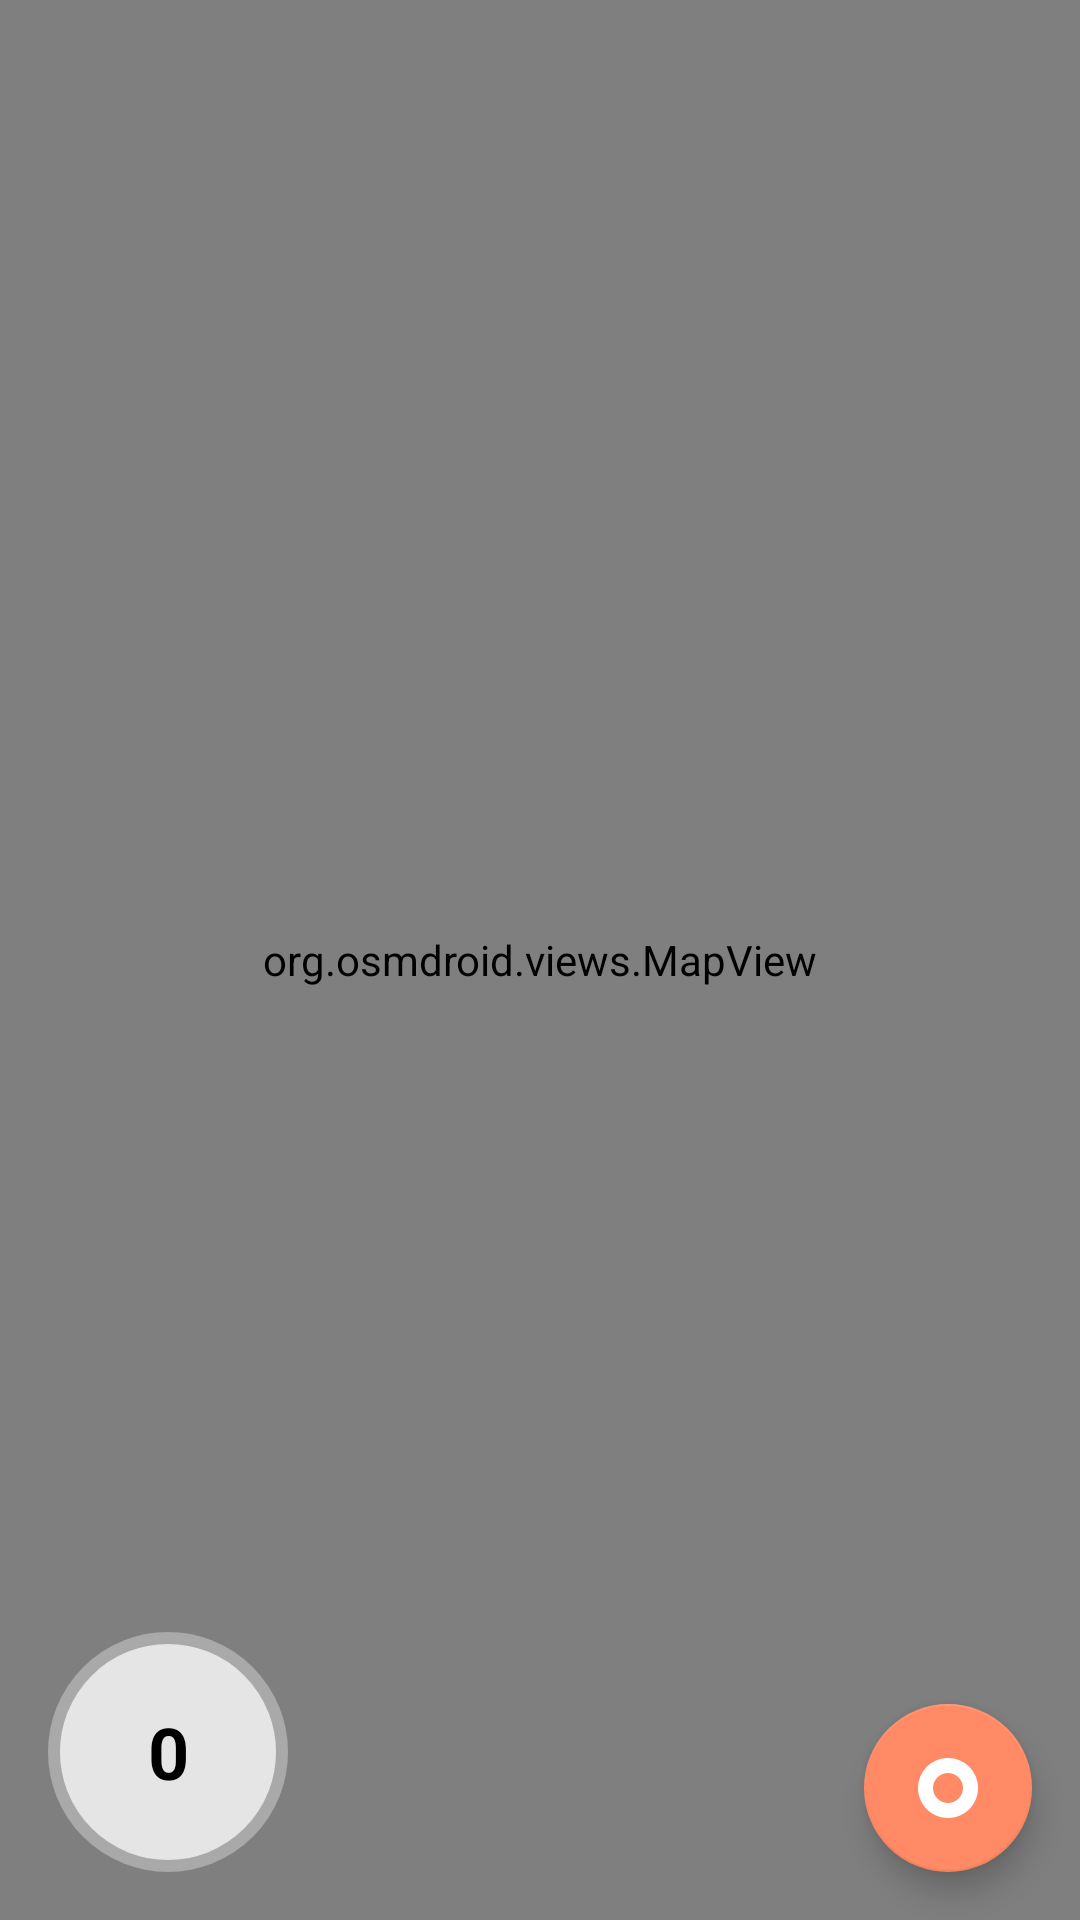

Screen size 1080*1920. Icon name, then its center in pixels as point (x, y):
Pulsante Registra percorso: point (948, 1788)
